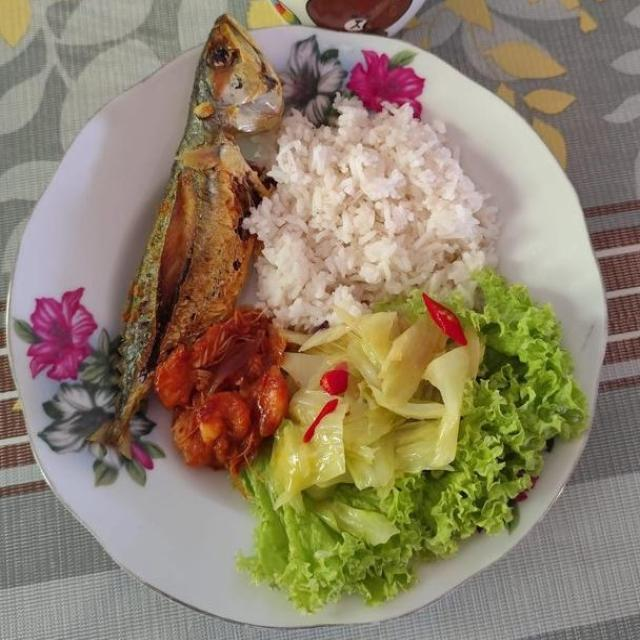Fish: (81, 8, 287, 460)
Plate: (9, 333, 586, 623)
Rice: (255, 97, 493, 337)
Vegetables: (230, 264, 585, 606)
